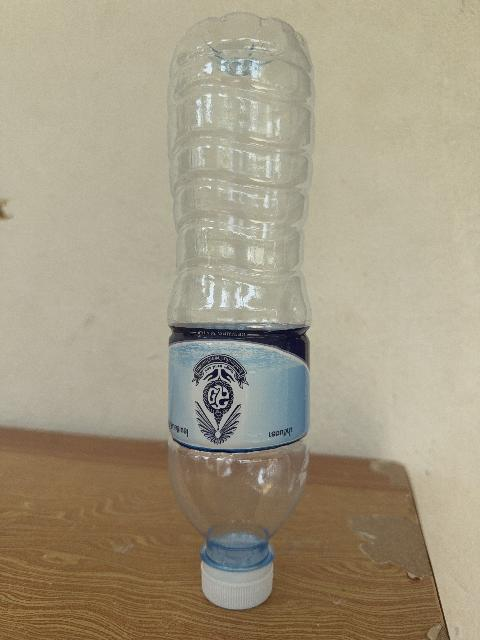bottle: (169, 13, 314, 608)
